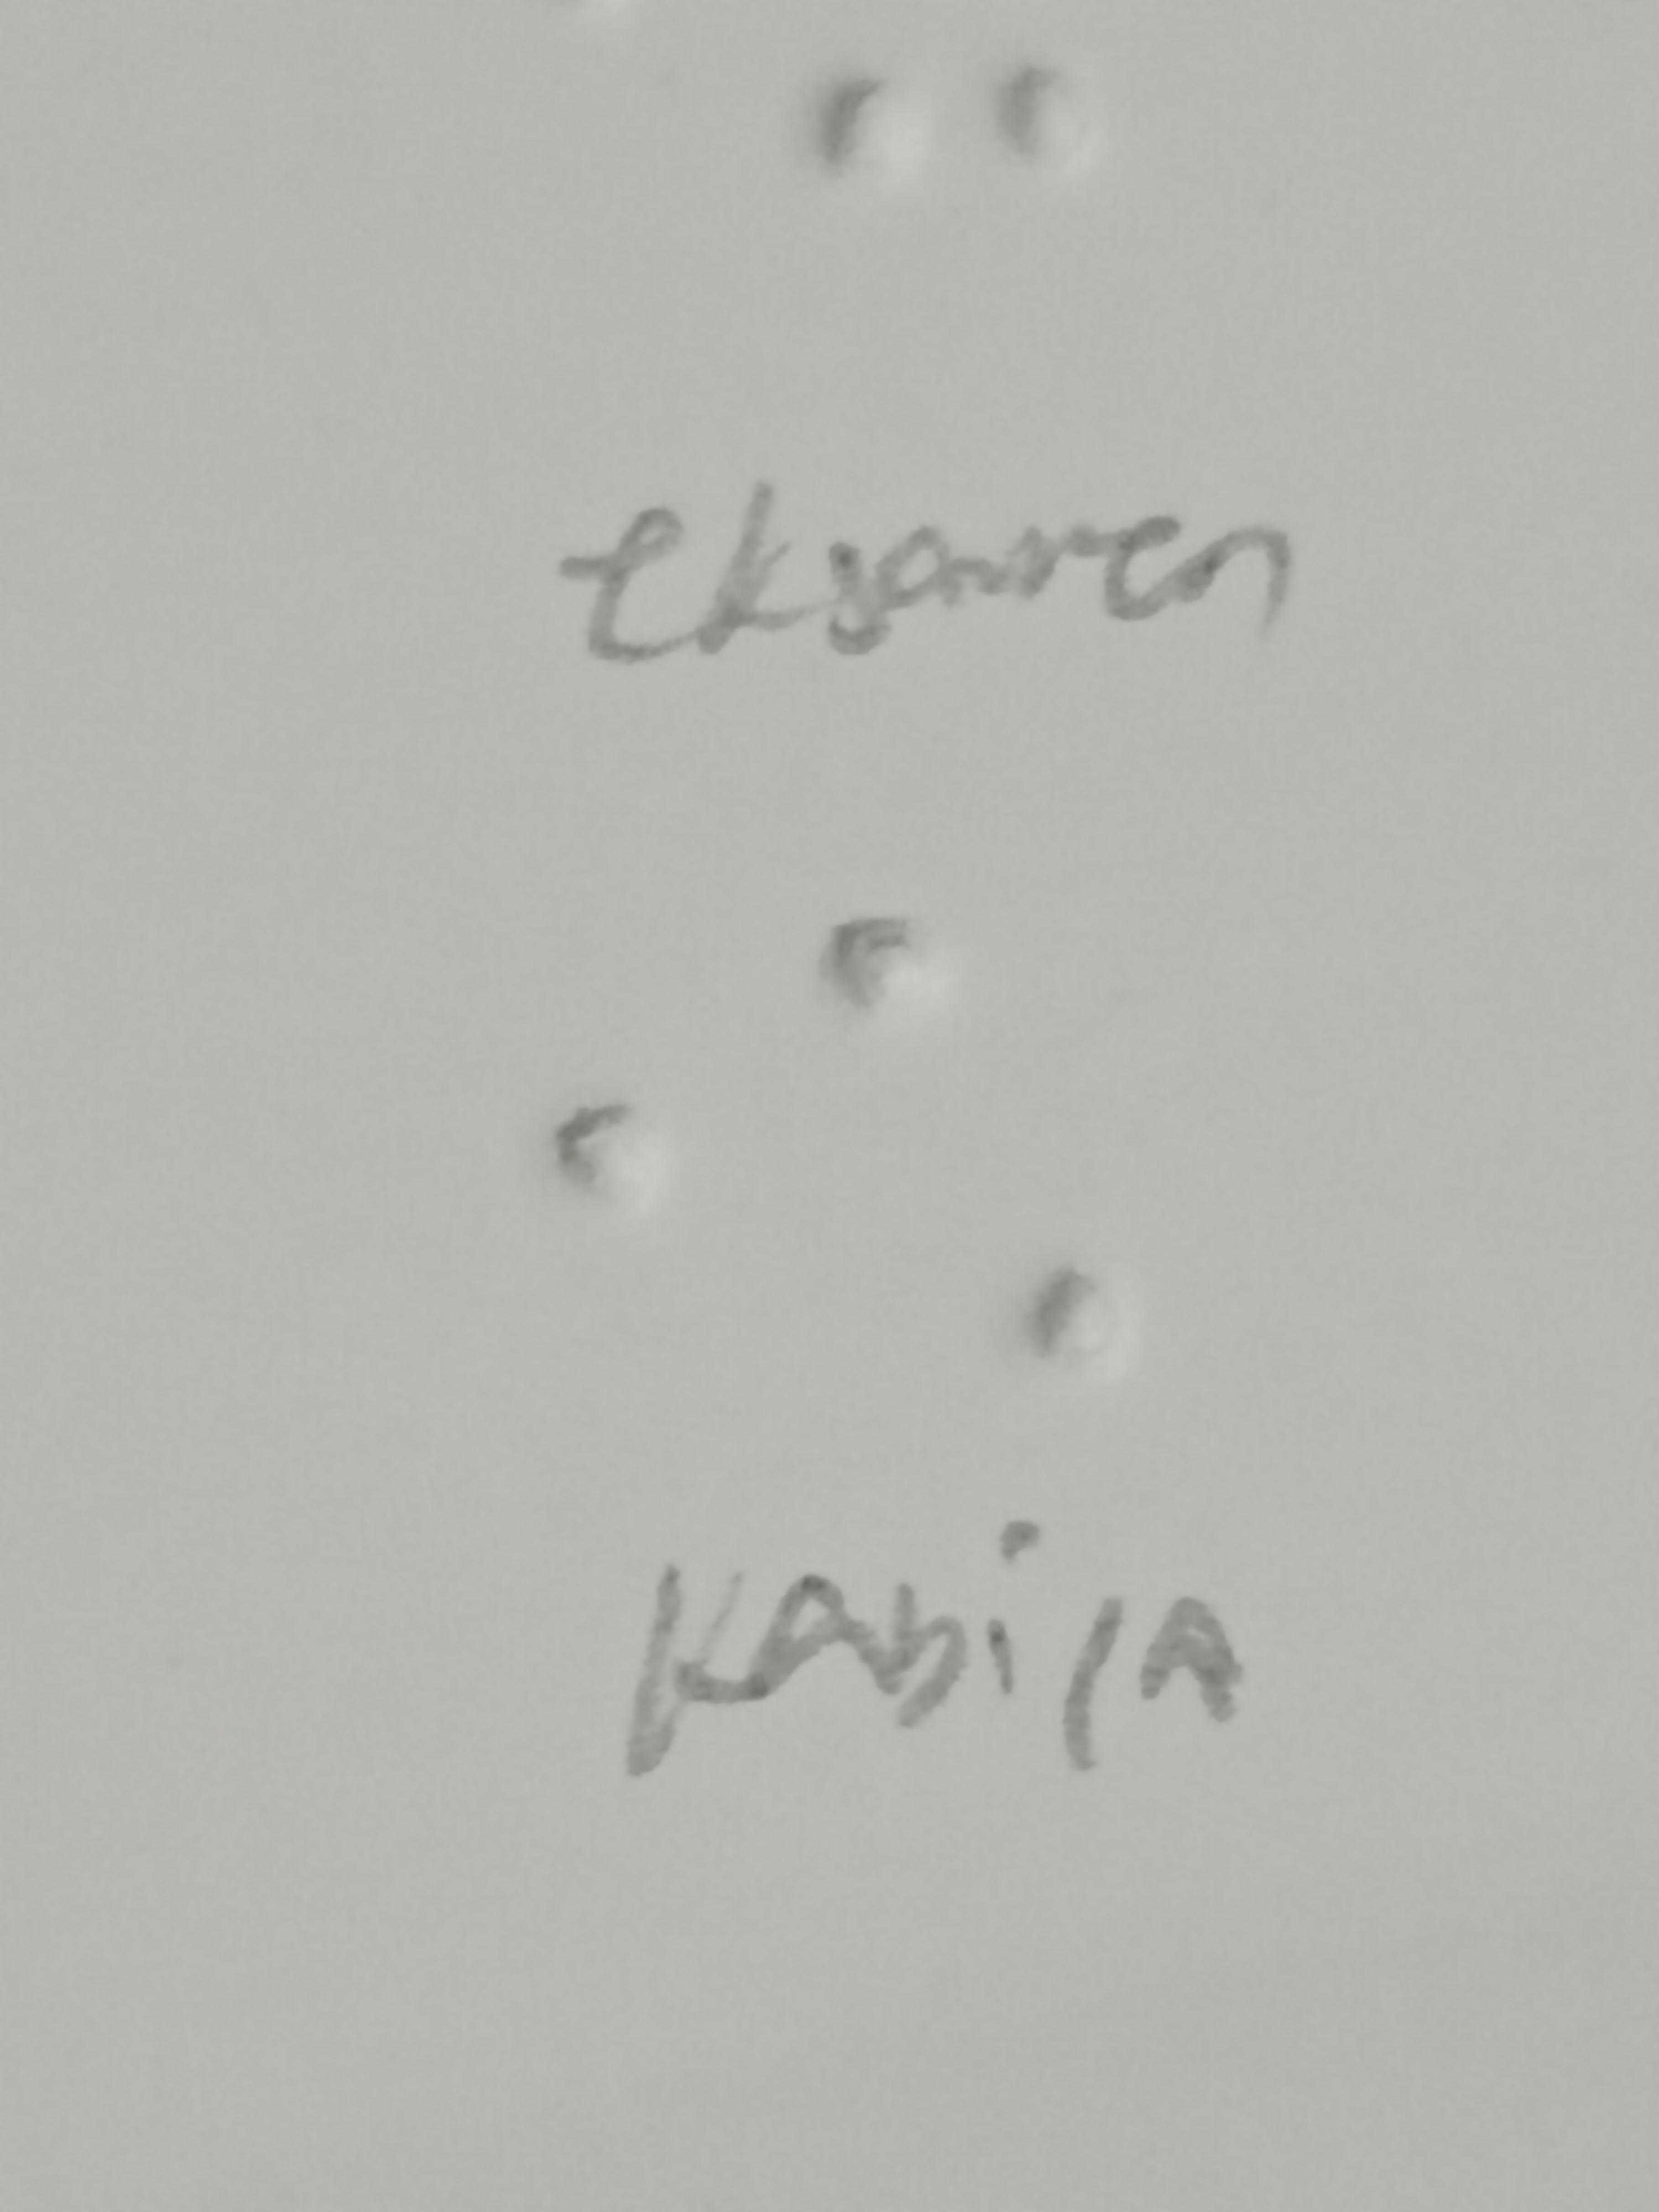dot_5: (368, 892, 678, 1379)
two_cell_non_alphabet_kabila: (819, 892, 1129, 1379)
